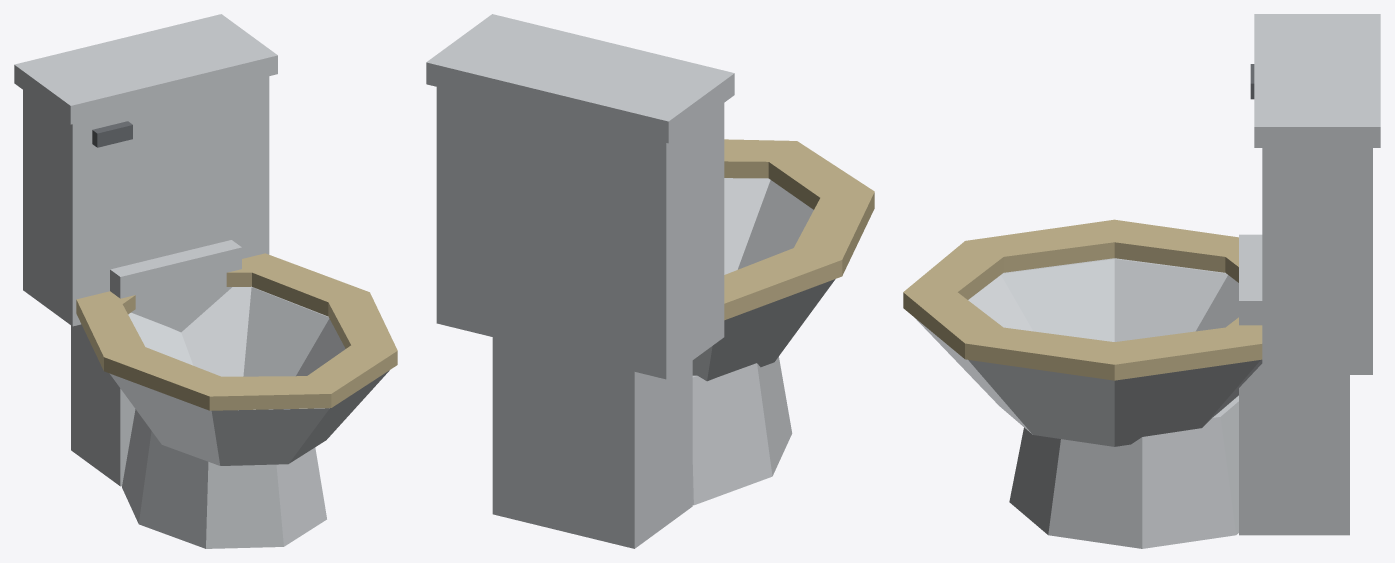
Rendered from prop-toilet.glb.
3 views of the same model, side by side, from view 1: azimuth 30°, elevation 25°; view 2: azimuth 150°, elevation 25°; view 3: azimuth 270°, elevation 25° (orthographic). The views are drawn at different scales.
Parts seen in each view (by area): view 1: cistern, recessed_bowl, open_cream_seat, ceramic_pedestal, cistern_lid, rear_cistern_support, flush_lever; view 2: cistern, rear_cistern_support, cistern_lid, open_cream_seat, recessed_bowl, ceramic_pedestal; view 3: recessed_bowl, open_cream_seat, cistern, ceramic_pedestal, rear_cistern_support, cistern_lid.
Boxes of the visible parts, x1,y1,x2,y2 form: cistern: (23, 76, 269, 326); recessed_bowl: (109, 286, 389, 465); open_cream_seat: (76, 253, 397, 410); ceramic_pedestal: (122, 409, 326, 548); cistern_lid: (14, 14, 277, 124); rear_cistern_support: (71, 240, 241, 486); flush_lever: (92, 121, 132, 147); cistern: (436, 87, 724, 379); rear_cistern_support: (492, 337, 692, 548); cistern_lid: (426, 14, 734, 143); open_cream_seat: (724, 139, 874, 320); recessed_bowl: (692, 178, 835, 381); ceramic_pedestal: (692, 356, 792, 505); recessed_bowl: (915, 258, 1262, 446); open_cream_seat: (903, 219, 1262, 380); cistern: (1262, 148, 1372, 374); ceramic_pedestal: (1009, 395, 1238, 548); rear_cistern_support: (1239, 234, 1349, 535); cistern_lid: (1254, 14, 1380, 147).
Size of the model in its own units: 0.372 by 0.516 by 0.5175.
